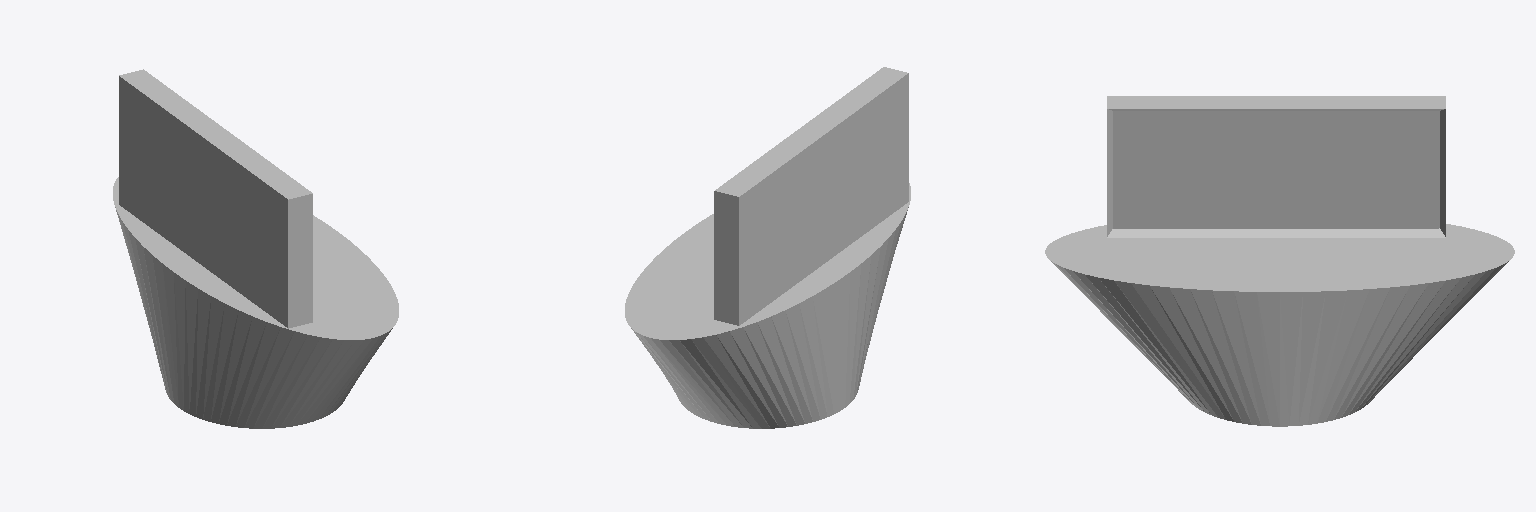
The model's file is researchstation.obj.
3 views of the same model, side by side, from view 1: azimuth 30°, elevation 25°; view 2: azimuth 150°, elevation 25°; view 3: azimuth 270°, elevation 25° (orthographic).
Visible parts, largest first — view 1: Bench, Monitor_Frame; view 2: Bench, Monitor_Frame; view 3: Bench, Cube, Monitor_Frame.
Boxes of the visible parts, box(x1,y1,x2,y2) form: Bench: box(113, 177, 398, 428); Monitor_Frame: box(119, 69, 312, 328); Bench: box(625, 183, 910, 428); Monitor_Frame: box(714, 67, 908, 325); Bench: box(1045, 224, 1514, 426); Cube: box(1113, 111, 1438, 228); Monitor_Frame: box(1107, 96, 1445, 237).
Bounding box in the file's own units: 1.91 × 2.96 × 4.74.